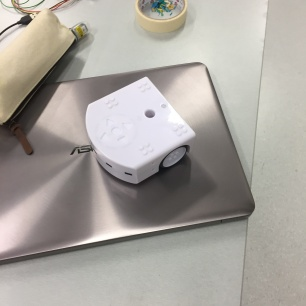thymio: (84, 74, 199, 187)
